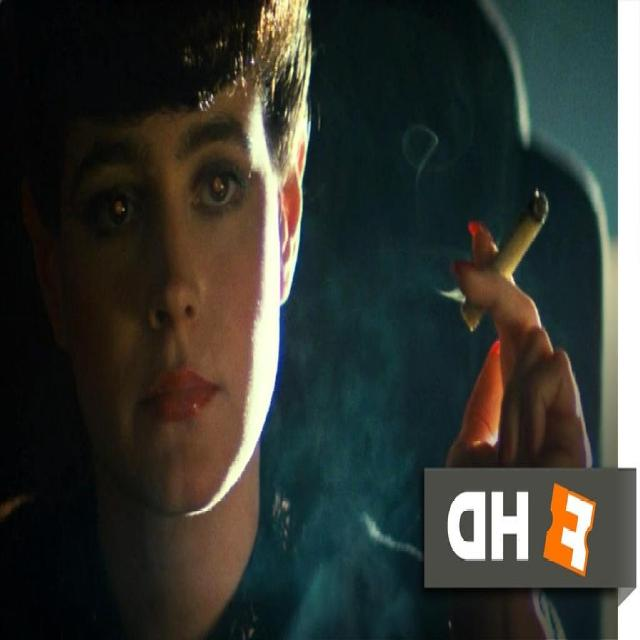smoking: (32, 58, 562, 505)
